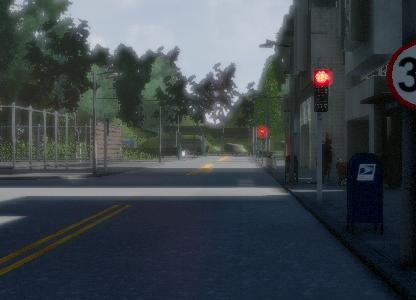Speed_30: (384, 37, 416, 113)
